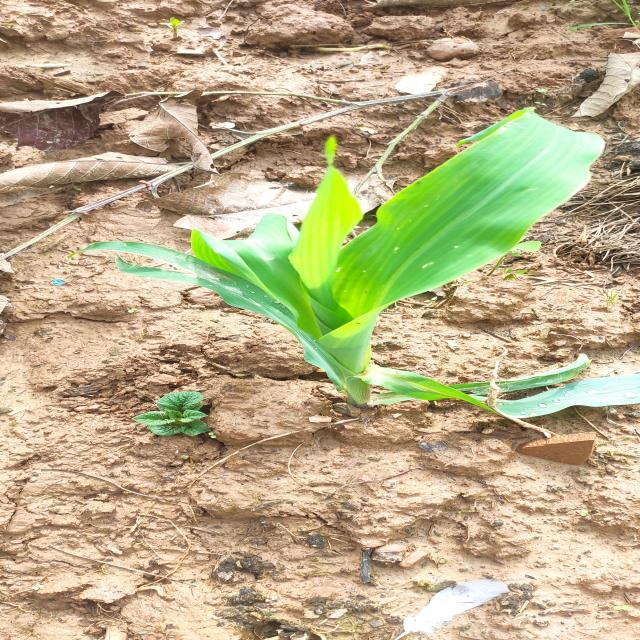maize: (17, 104, 640, 410)
weed: (116, 366, 262, 451)
